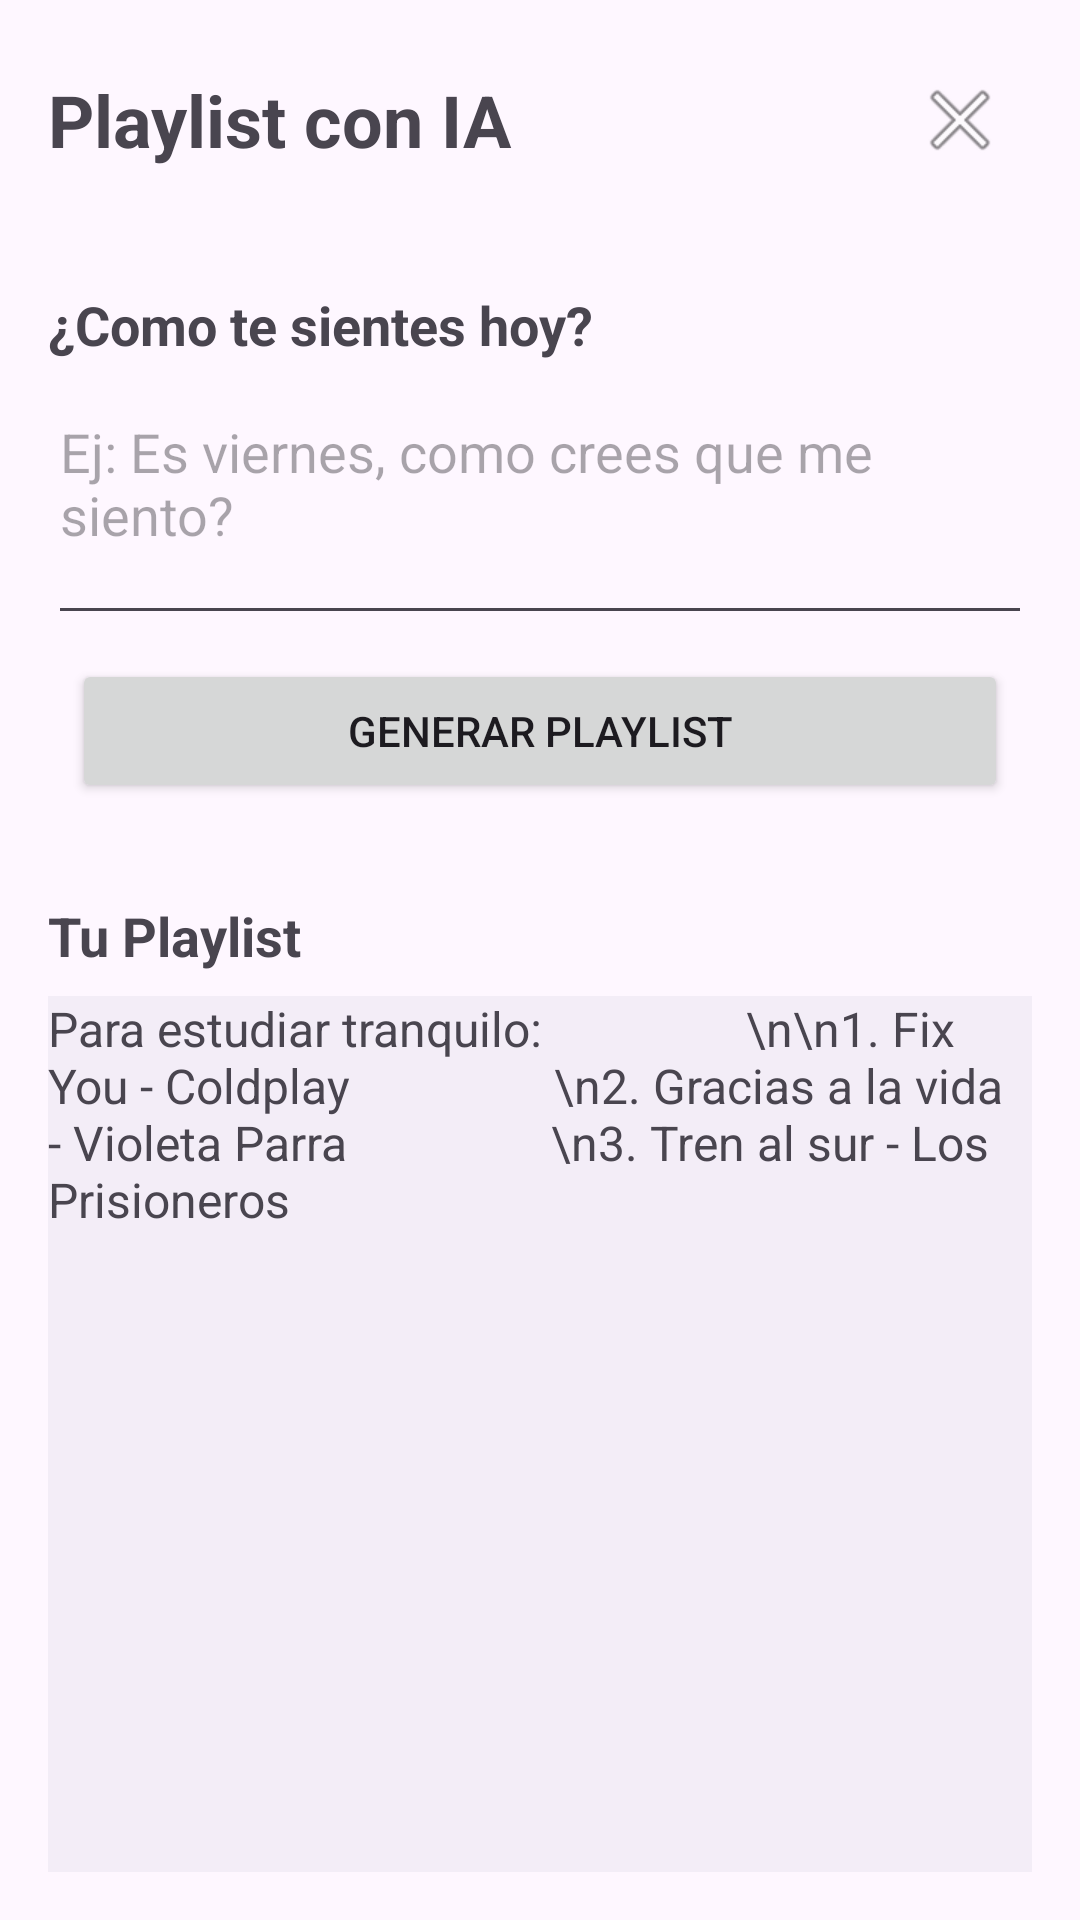

Where icons sit on this 1080*1920 app screen, as (x1, y1, x2, y2):
Volver a la lista: (930, 90, 990, 150)
